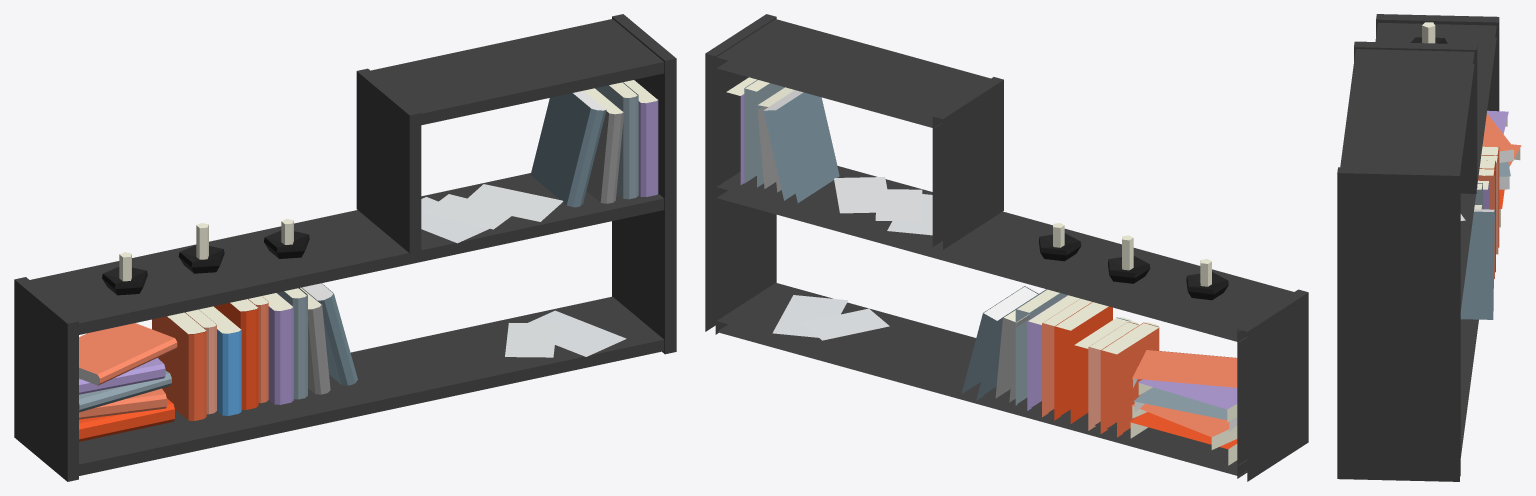
Rendered from Shelf_M_01.fbx.
3 views of the same model, side by side, from view 1: azimuth 30°, elevation 25°; view 2: azimuth 150°, elevation 25°; view 3: azimuth 270°, elevation 25° (orthographic). The views are drawn at different scales.
Parts seen in each view (by area): view 1: Shelf_M_01; view 2: Shelf_M_01; view 3: Shelf_M_01.
Part boxes in pixels (x1,y1,x2,y2): Shelf_M_01: [14, 14, 676, 481]; Shelf_M_01: [705, 14, 1308, 481]; Shelf_M_01: [1337, 14, 1521, 481].
Size of the model in its own units: 129 by 60.86 by 33.24.
Materials: 1 (1 with a texture image).
